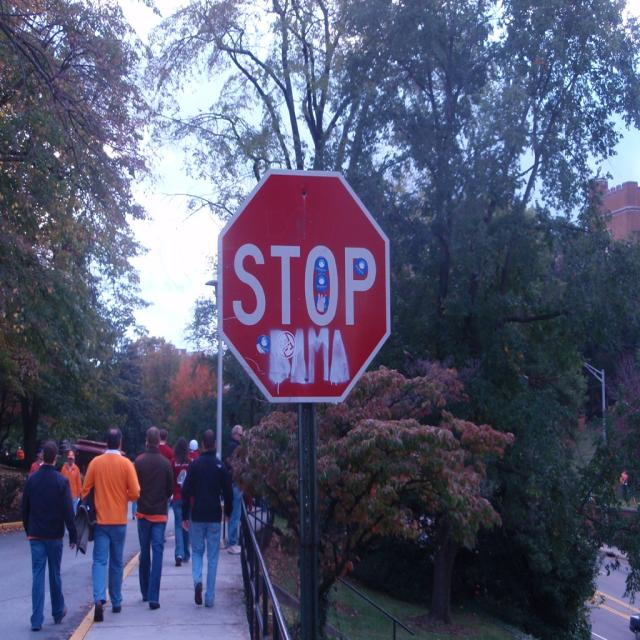Stop-sign: (216, 166, 392, 404)
